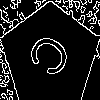C: (25, 30, 81, 87)
